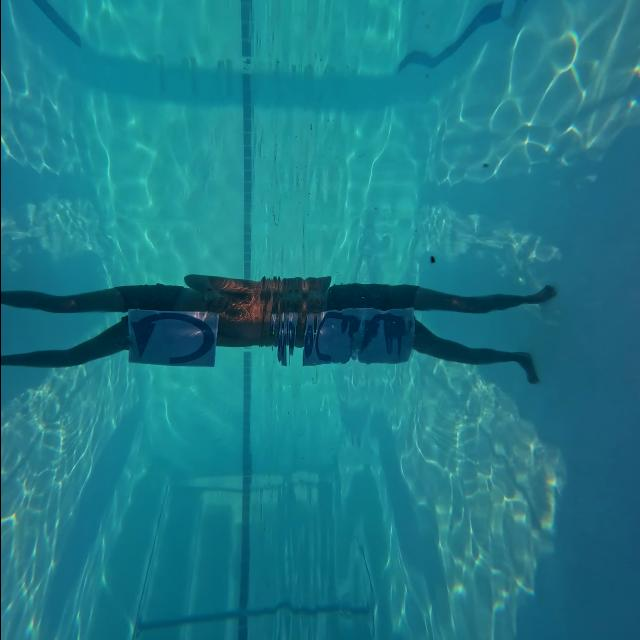blue_side: (124, 308, 216, 368)
